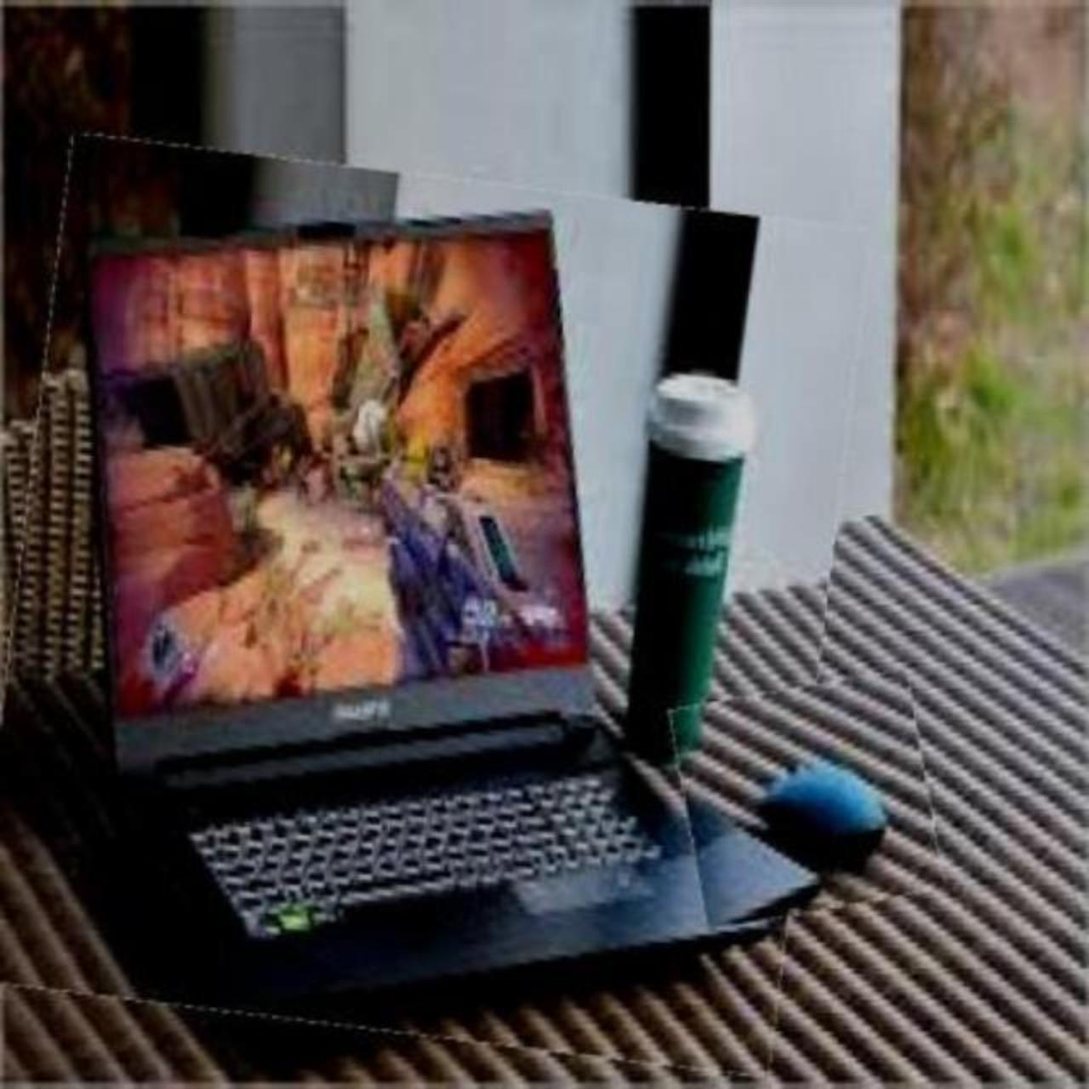laptop: (0, 156, 847, 1052)
